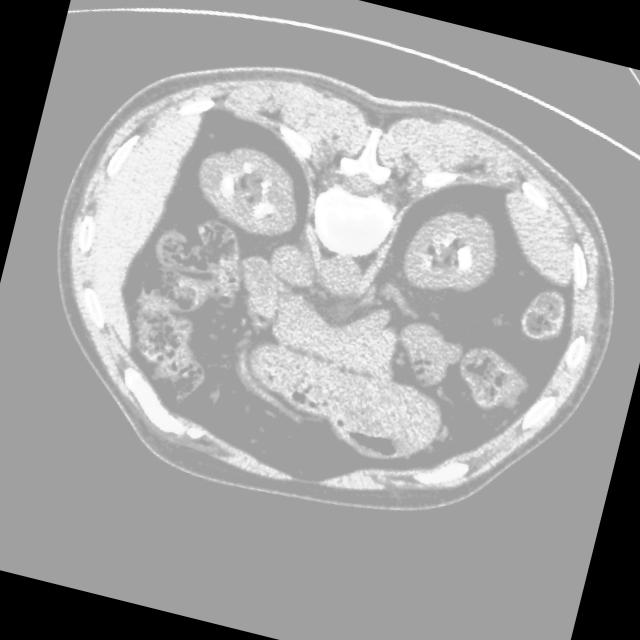STONE: (138, 117, 516, 423)
